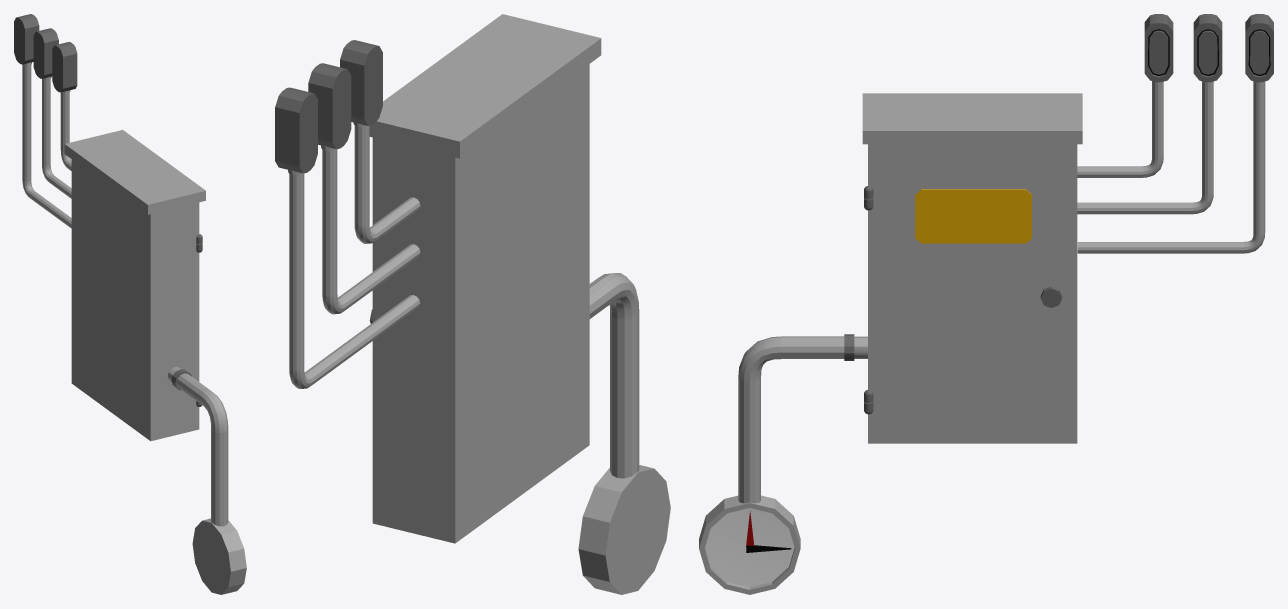
File: boitier deco.fbx
3 renders of one model, left to right at view 1: azimuth 30°, elevation 25°; view 2: azimuth 150°, elevation 25°; view 3: azimuth 270°, elevation 25°, orthographic. The views are drawn at different scales.
Visible parts, largest first — view 1: boitier_deco; view 2: boitier_deco; view 3: boitier_deco.
Part boxes in pixels (<box>): boitier_deco: <box>14,14,246,594</box>; boitier_deco: <box>275,14,670,594</box>; boitier_deco: <box>699,14,1273,594</box>.
Bounding box in the file's own units: 0.2199 × 1.49 × 1.36.
